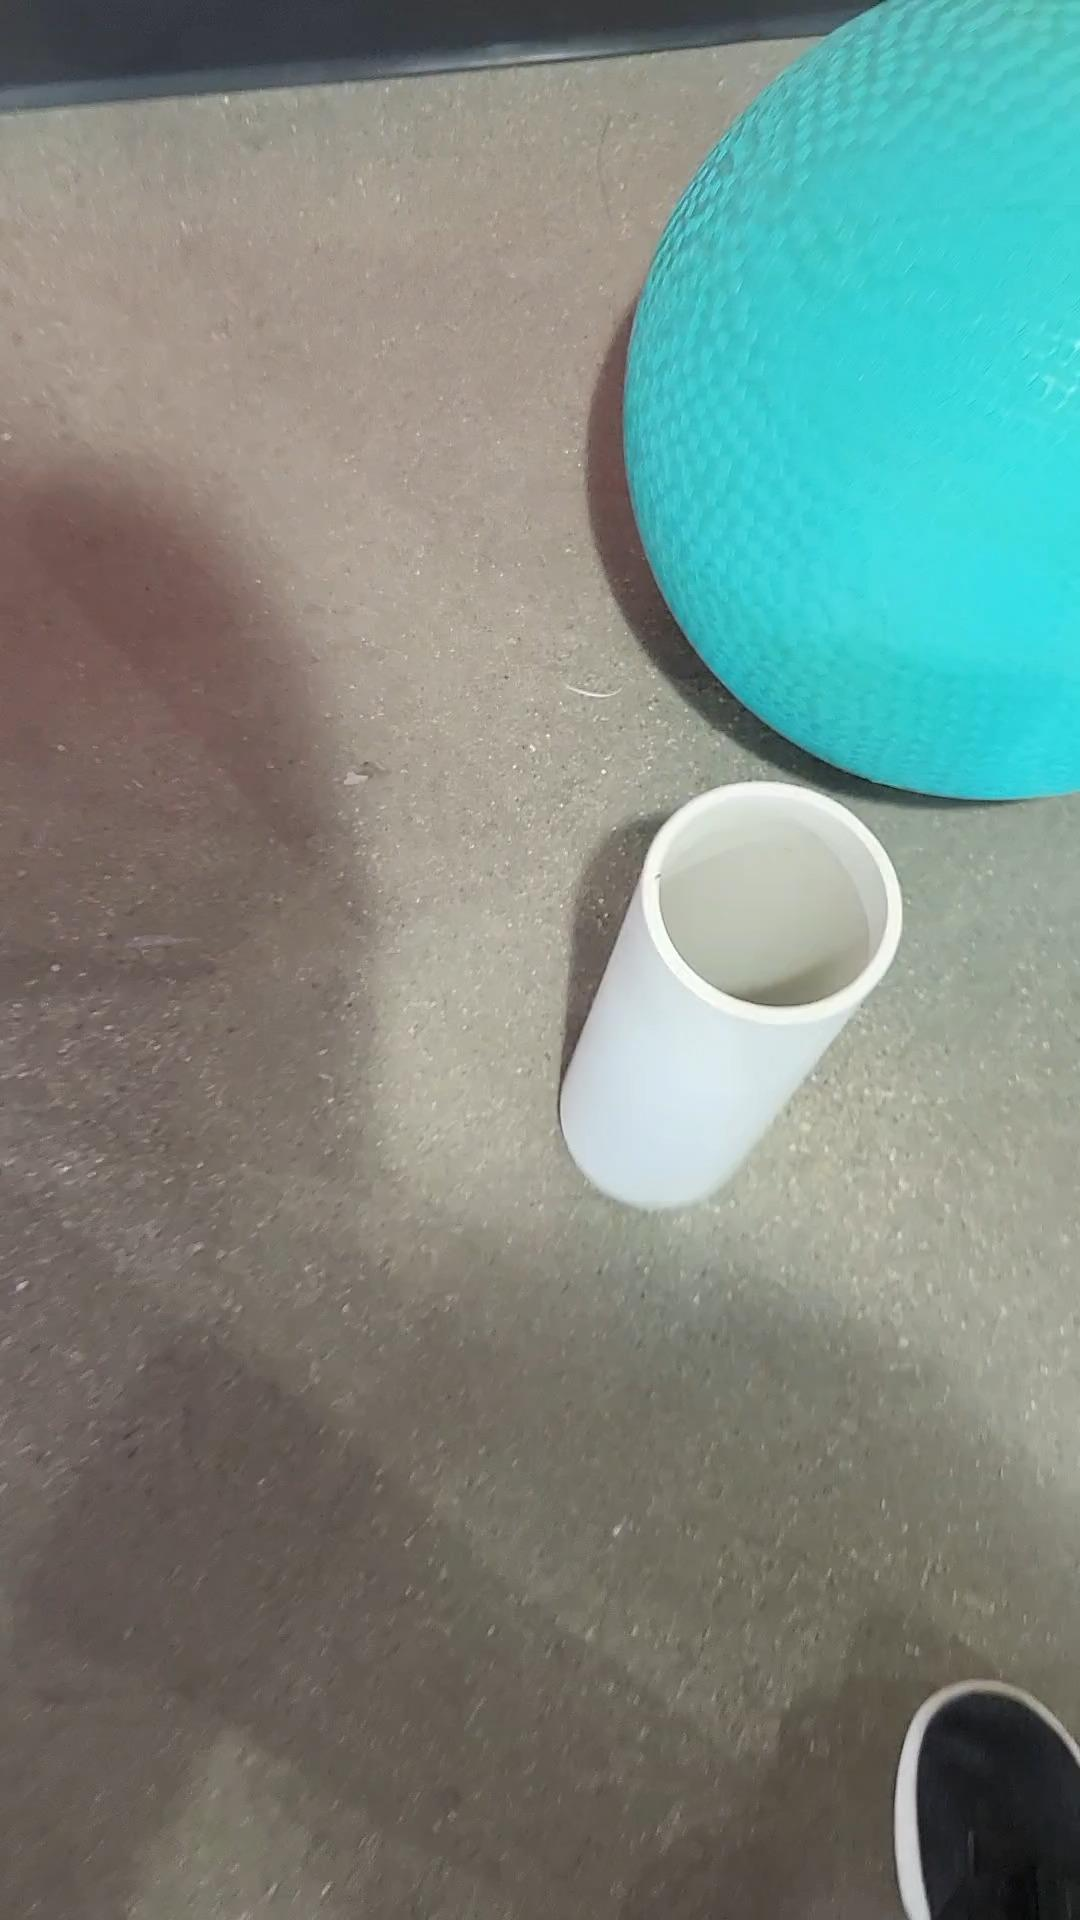algae: (565, 0, 1080, 808)
coral: (521, 776, 882, 1193)
